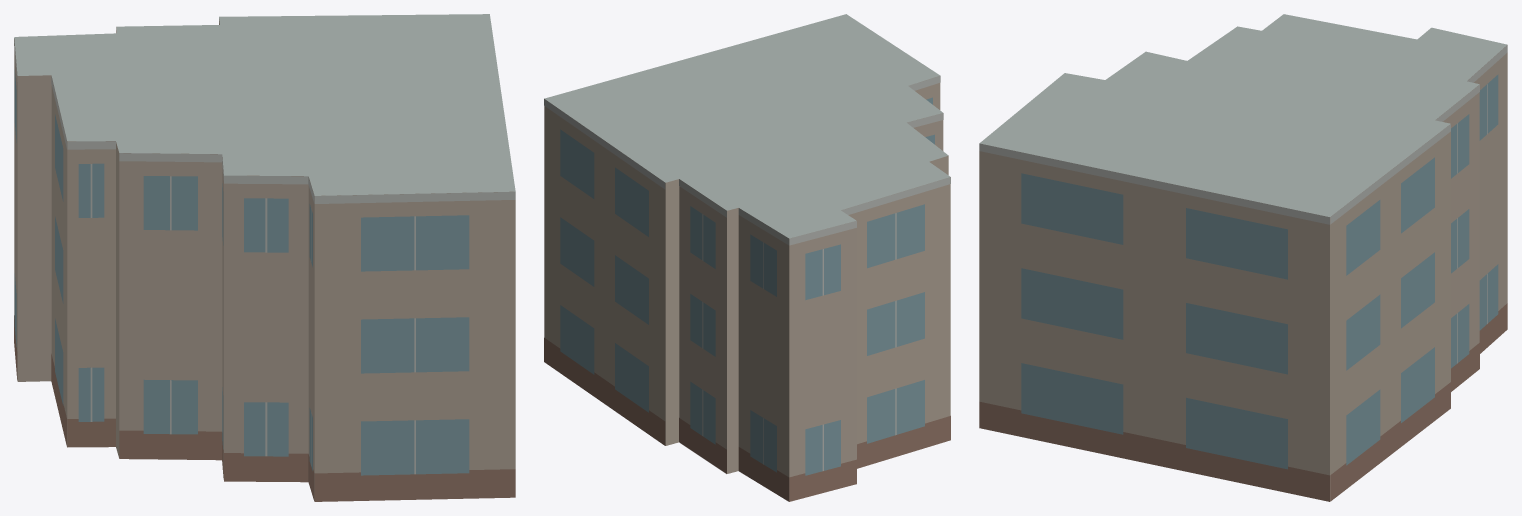
The model's file is survey-upis-32887775.glb.
3 renders of one model, left to right at view 1: azimuth 30°, elevation 25°; view 2: azimuth 150°, elevation 25°; view 3: azimuth 270°, elevation 25°, orthographic. The views are drawn at different scales.
Visible parts, largest first — view 1: survey-upis-32887775.tmp; view 2: survey-upis-32887775.tmp; view 3: survey-upis-32887775.tmp.
Part boxes in pixels (x1,y1,x2,y2): survey-upis-32887775.tmp: (14, 14, 515, 501); survey-upis-32887775.tmp: (544, 14, 950, 501); survey-upis-32887775.tmp: (979, 14, 1507, 501).
Bounding box in the file's own units: 13.94 × 9.1 × 15.32.
